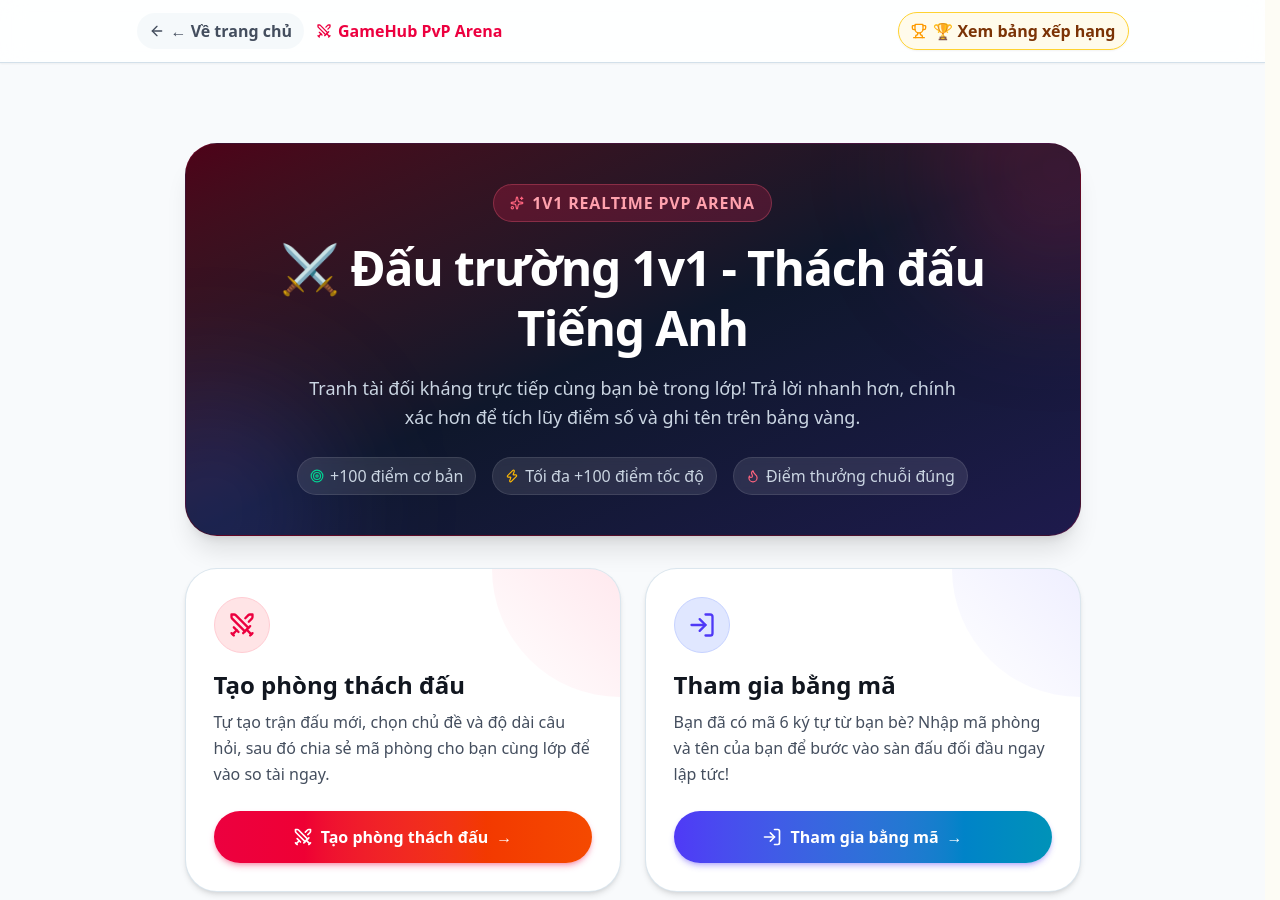
DuelHubPage › opens CreateDuelModal when clicking open-create-modal button
Click the button with test id "open-create-modal" at (402, 836), box [214, 810, 592, 862]
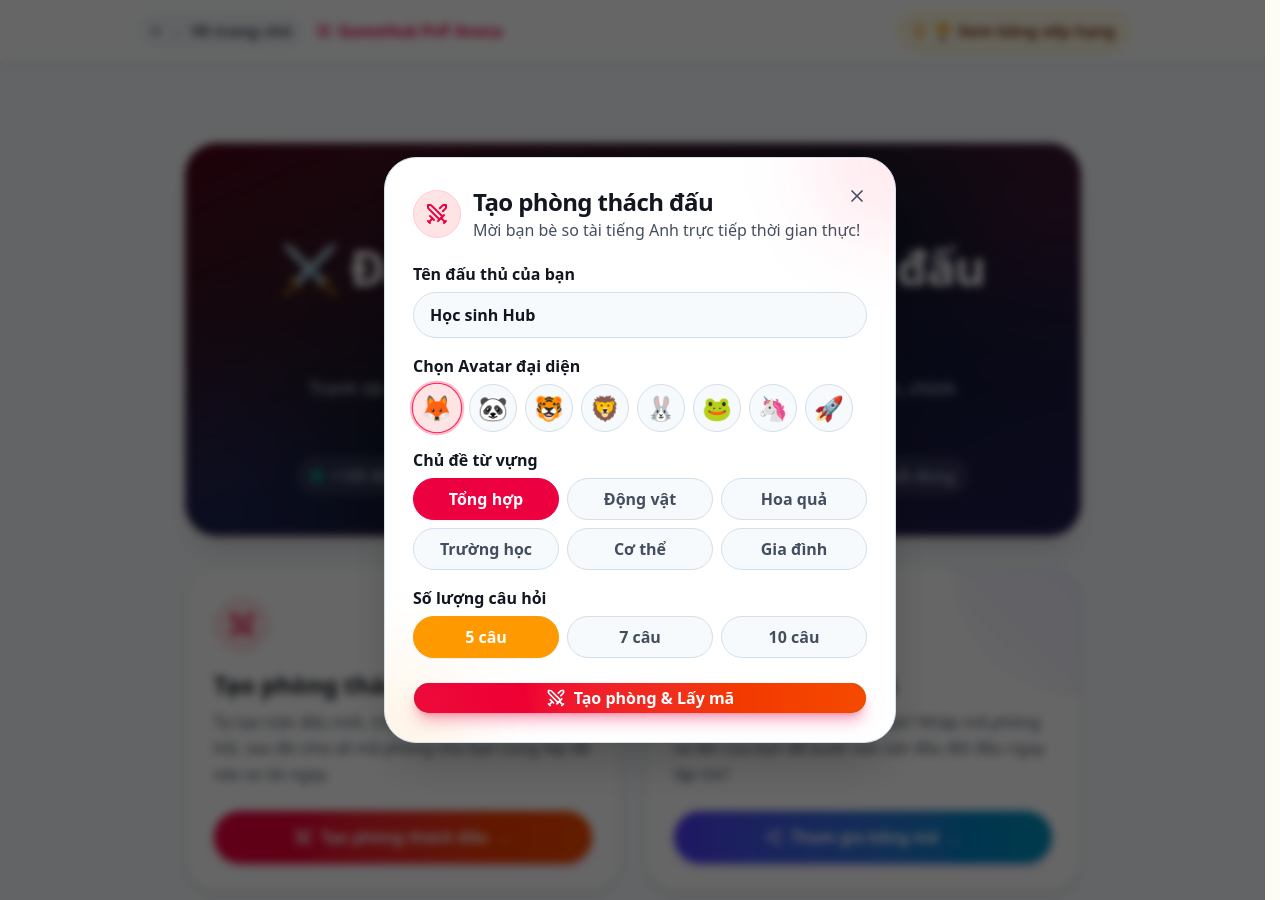
Expected: the dialog with test id "create-duel-modal" is shown
